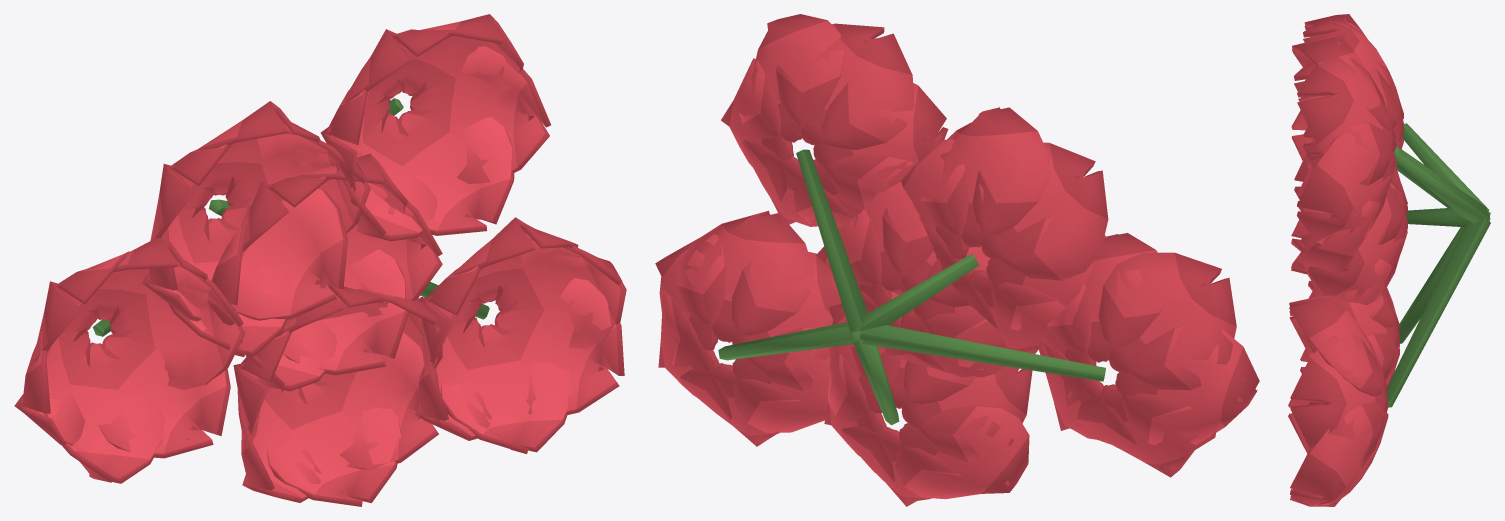
The model's file is garden-geranium-bloom-head-3.glb.
3 renders of one model, left to right at view 1: azimuth 30°, elevation 25°; view 2: azimuth 150°, elevation 25°; view 3: azimuth 270°, elevation 25°, orthographic. The views are drawn at different scales.
Parts seen in each view (by area): view 1: geranium-bloom-head-3; view 2: geranium-bloom-head-3; view 3: geranium-bloom-head-3.
Part boxes in pixels (x1,y1,x2,y2): geranium-bloom-head-3: [14, 14, 626, 506]; geranium-bloom-head-3: [655, 14, 1259, 506]; geranium-bloom-head-3: [1288, 14, 1490, 506].
Size of the model in its own units: 0.1638 by 0.1212 by 0.0514.
